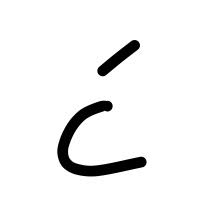i: (90, 37, 158, 83)
